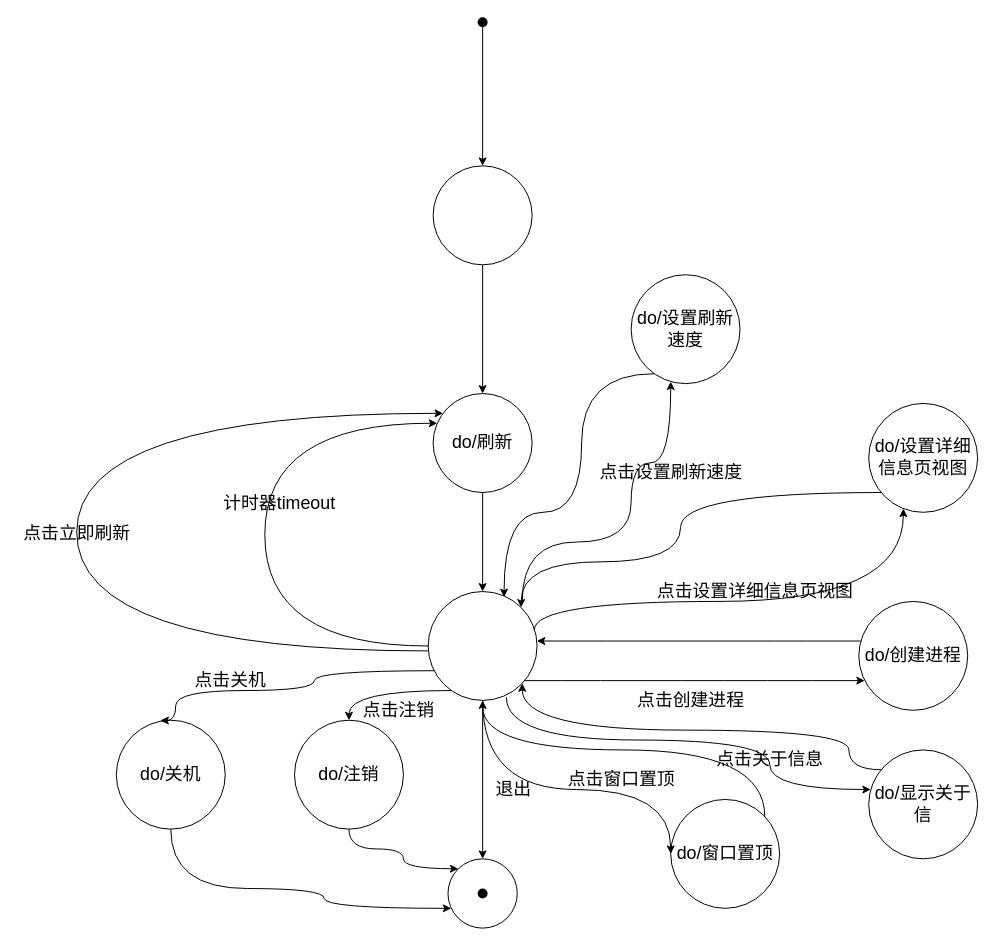
Image size: 995x945. Some labels were removed from this diagram. The shapes that lost their labels are listed below. From the top down, each one's centre as x and y in pixels, then its label:
pixel 482 215: do/初始化
pixel 482 645: do/显示并等待
